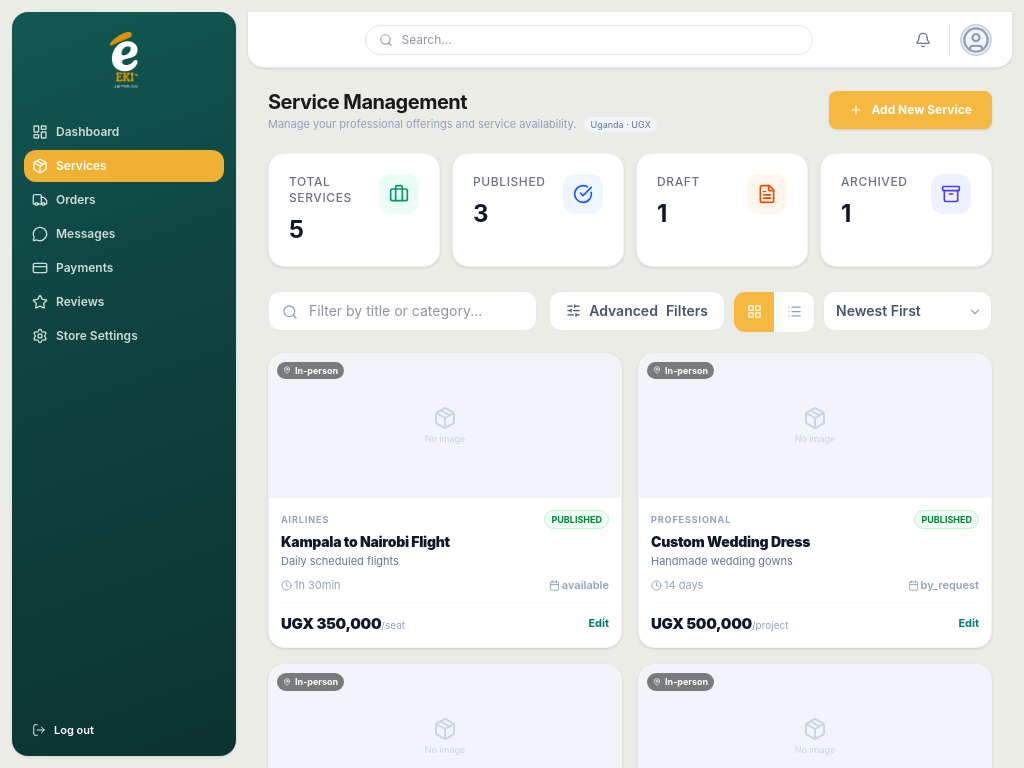
Test case: ServiceManagement Page › Airline service › search finds the airline service by title
The width and height of the screenshot is (1024, 768).
Expected: the heading "Kampala to Nairobi Flight" is shown, [281,533,450,550]
Type "Nairobi" into the field with placeholder "Filter by title or category..." at (403, 310), box [268,290,537,330]
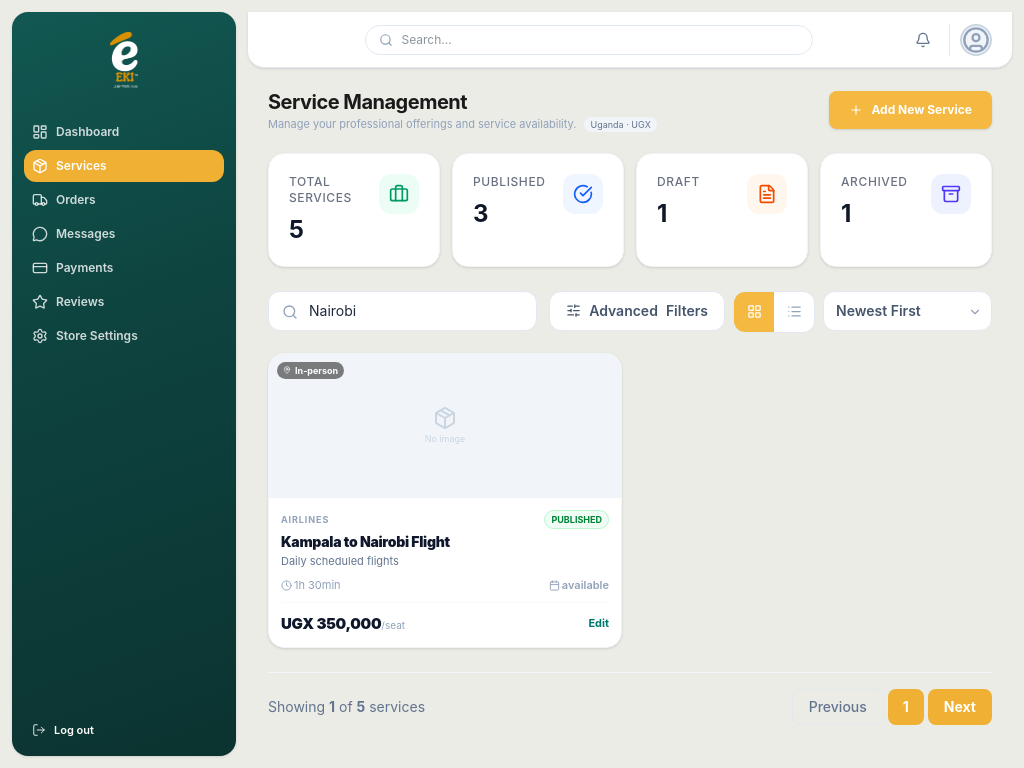
Expected: the heading "Kampala to Nairobi Flight" is shown, [281,533,450,550]
Now the heading "Custom Wedding Dress" is gone
